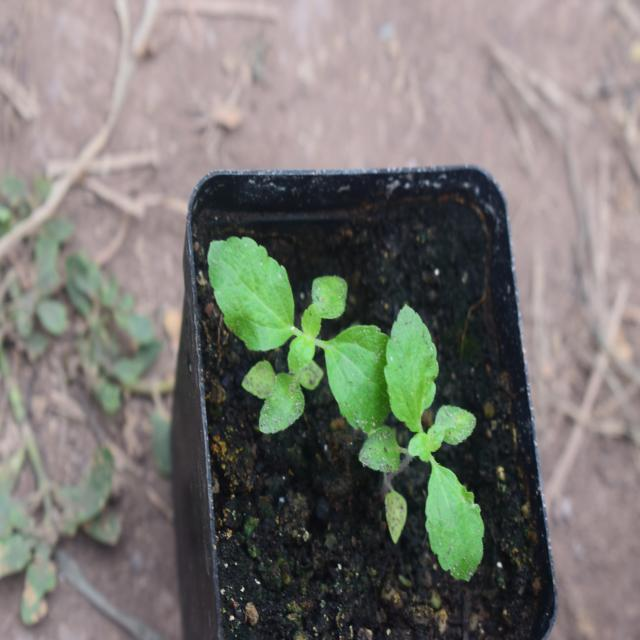billygoat_weed: (204, 222, 388, 441), (383, 288, 495, 577)
